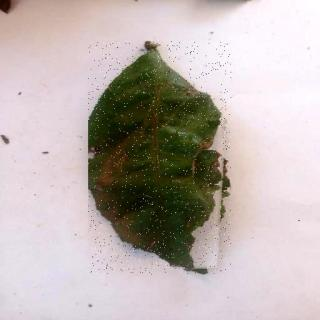Brown Blight: (89, 43, 232, 276)
